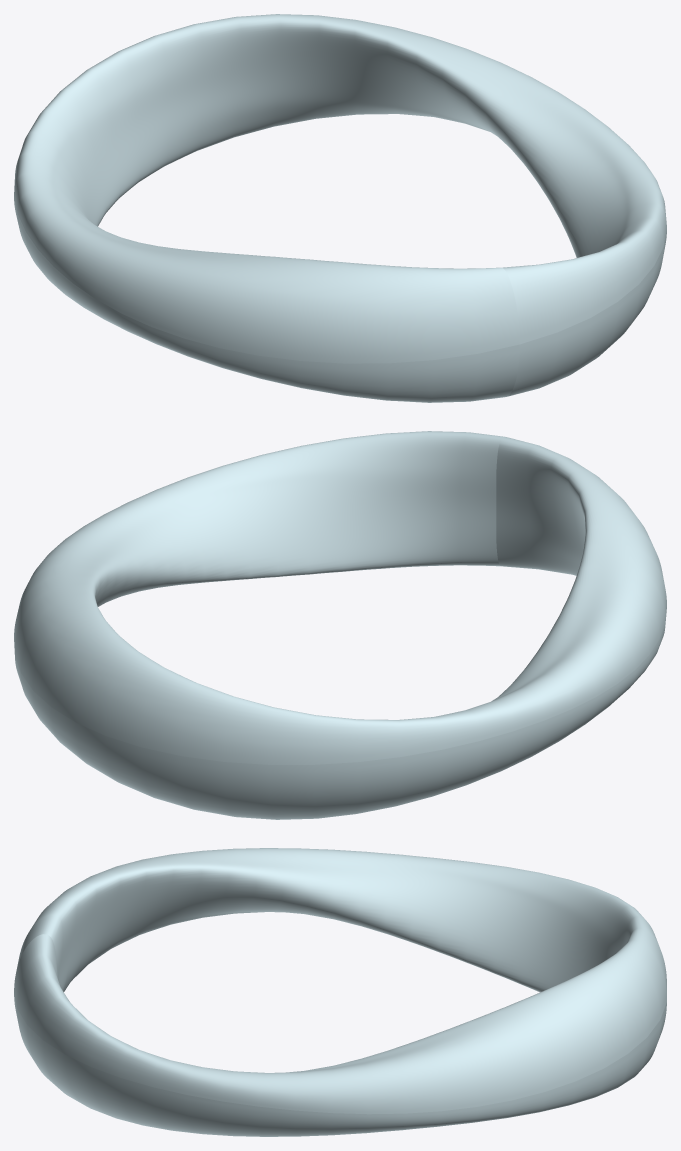
The model's file is stellarator.glb.
The picture shows the model from 3 angles, top to bottom: view 1: azimuth 30°, elevation 25°; view 2: azimuth 150°, elevation 25°; view 3: azimuth 270°, elevation 25°; orthographic projection. The views are drawn at different scales.
Parts seen in each view (by area): view 1: Renderer Node; view 2: Renderer Node; view 3: Renderer Node.
Boxes of the visible parts, x1=… form: Renderer Node: x1=14, y1=14, x2=666, y2=402; Renderer Node: x1=14, y1=431, x2=666, y2=819; Renderer Node: x1=14, y1=848, x2=666, y2=1136.
Size of the model in its own units: 0.6442 by 0.1616 by 0.7347.
